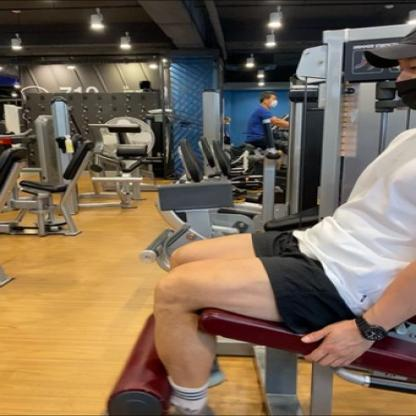leg extension: (89, 11, 416, 416)
